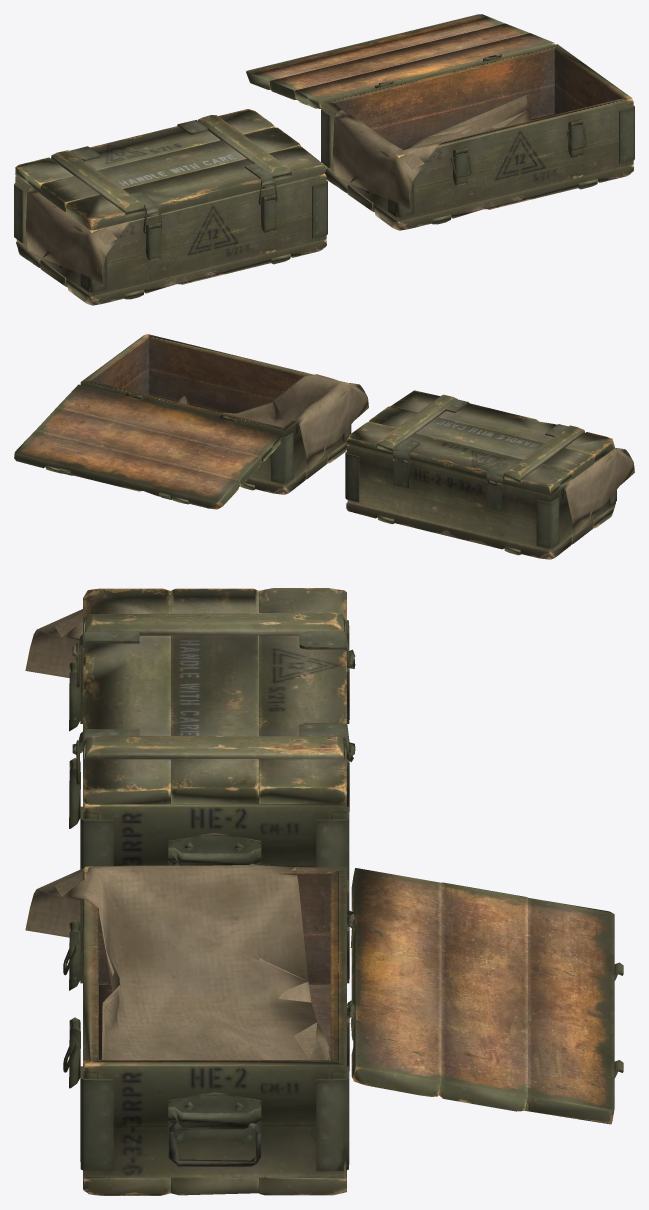
Rendered from old_military_crate.glb.
3 renders of one model, top to bottom at view 1: azimuth 30°, elevation 25°; view 2: azimuth 150°, elevation 25°; view 3: azimuth 270°, elevation 25°, orthographic. The views are drawn at different scales.
Parts seen in each view (by area): view 1: old_military_crate_b, old_military_crate_lid_a, old_military_crate_a, old_military_crate_lid_b, old_military_crate_cloth_b, old_military_crate_cloth_a, old_military_crate_latch_a, old_military_crate_latch_b; view 2: old_military_crate_lid_b, old_military_crate_lid_a, old_military_crate_a, old_military_crate_b, old_military_crate_cloth_b, old_military_crate_cloth_a; view 3: old_military_crate_lid_a, old_military_crate_lid_b, old_military_crate_b, old_military_crate_cloth_b, old_military_crate_a, old_military_crate_cloth_a, old_military_crate_latch_b, old_military_crate_latch_a.
Boxes of the visible parts, x1,y1,x2,y2 form: old_military_crate_b: (321,44,634,230); old_military_crate_lid_a: (15,109,326,230); old_military_crate_a: (14,173,327,305); old_military_crate_lid_b: (246,14,554,108); old_military_crate_cloth_b: (333,95,532,209); old_military_crate_cloth_a: (25,187,129,284); old_military_crate_latch_a: (145,194,276,261); old_military_crate_latch_b: (453,119,583,186); old_military_crate_lid_b: (14,384,282,509); old_military_crate_lid_a: (346,390,614,495); old_military_crate_a: (345,446,616,559); old_military_crate_b: (80,334,351,494); old_military_crate_cloth_b: (175,374,368,470); old_military_crate_cloth_a: (562,448,634,535); old_military_crate_lid_a: (72,588,355,804); old_military_crate_lid_b: (347,868,623,1124); old_military_crate_b: (80,866,355,1195); old_military_crate_cloth_b: (25,864,329,1059); old_military_crate_a: (80,620,355,884); old_military_crate_cloth_a: (25,609,82,677); old_military_crate_latch_b: (69,920,80,1088); old_military_crate_latch_a: (69,660,80,828).
Size of the model in its own units: 1.81 by 0.2996 by 0.9744.
Materials: 1 (1 with a texture image).
